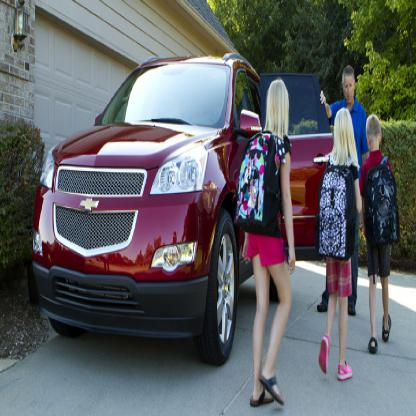Vehicle: (28, 52, 340, 370)
